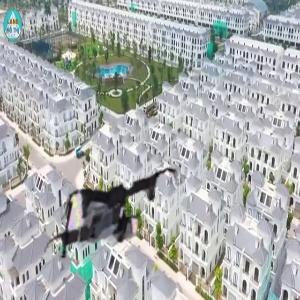drone: (49, 148, 180, 279)
